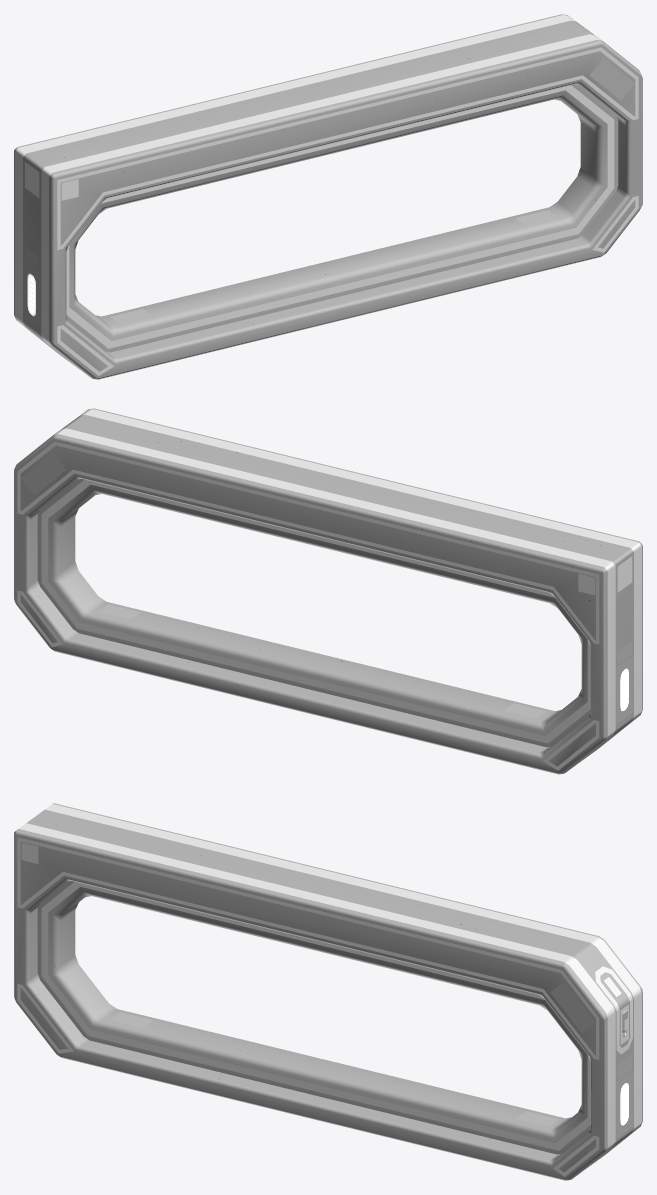
Rendered from SM_Construction_7_Merged.fbx.
The picture shows the model from 3 angles, top to bottom: view 1: azimuth 30°, elevation 25°; view 2: azimuth 150°, elevation 25°; view 3: azimuth 330°, elevation 25°; orthographic projection.
Visible parts, largest first — view 1: SM_Construction_7_Merged_LOD0; view 2: SM_Construction_7_Merged_LOD0; view 3: SM_Construction_7_Merged_LOD0.
Part boxes in pixels (box(x1,y1,x2,y2)): SM_Construction_7_Merged_LOD0: box(14, 14, 642, 379); SM_Construction_7_Merged_LOD0: box(14, 408, 642, 774); SM_Construction_7_Merged_LOD0: box(14, 803, 642, 1180).
Bounding box in the file's own units: 587 × 68.96 × 205.
